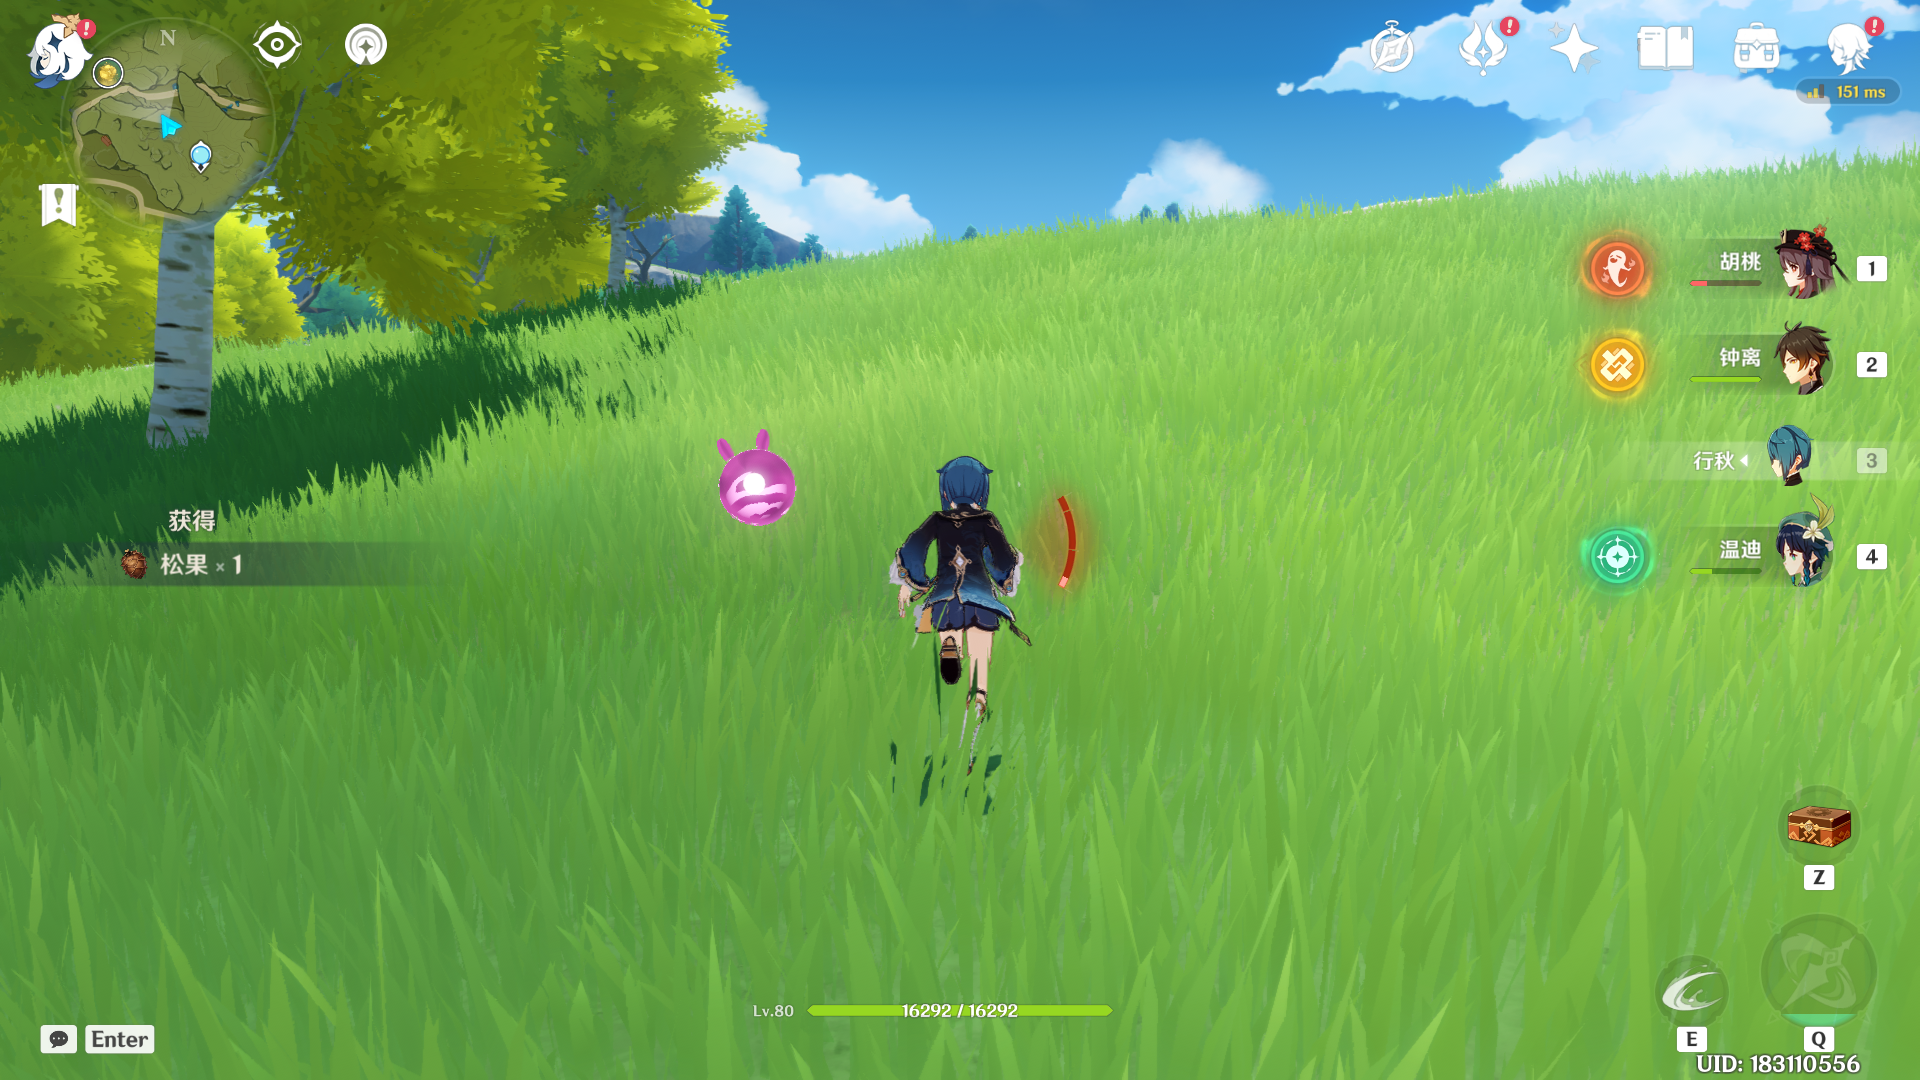character: (862, 435, 1076, 757)
